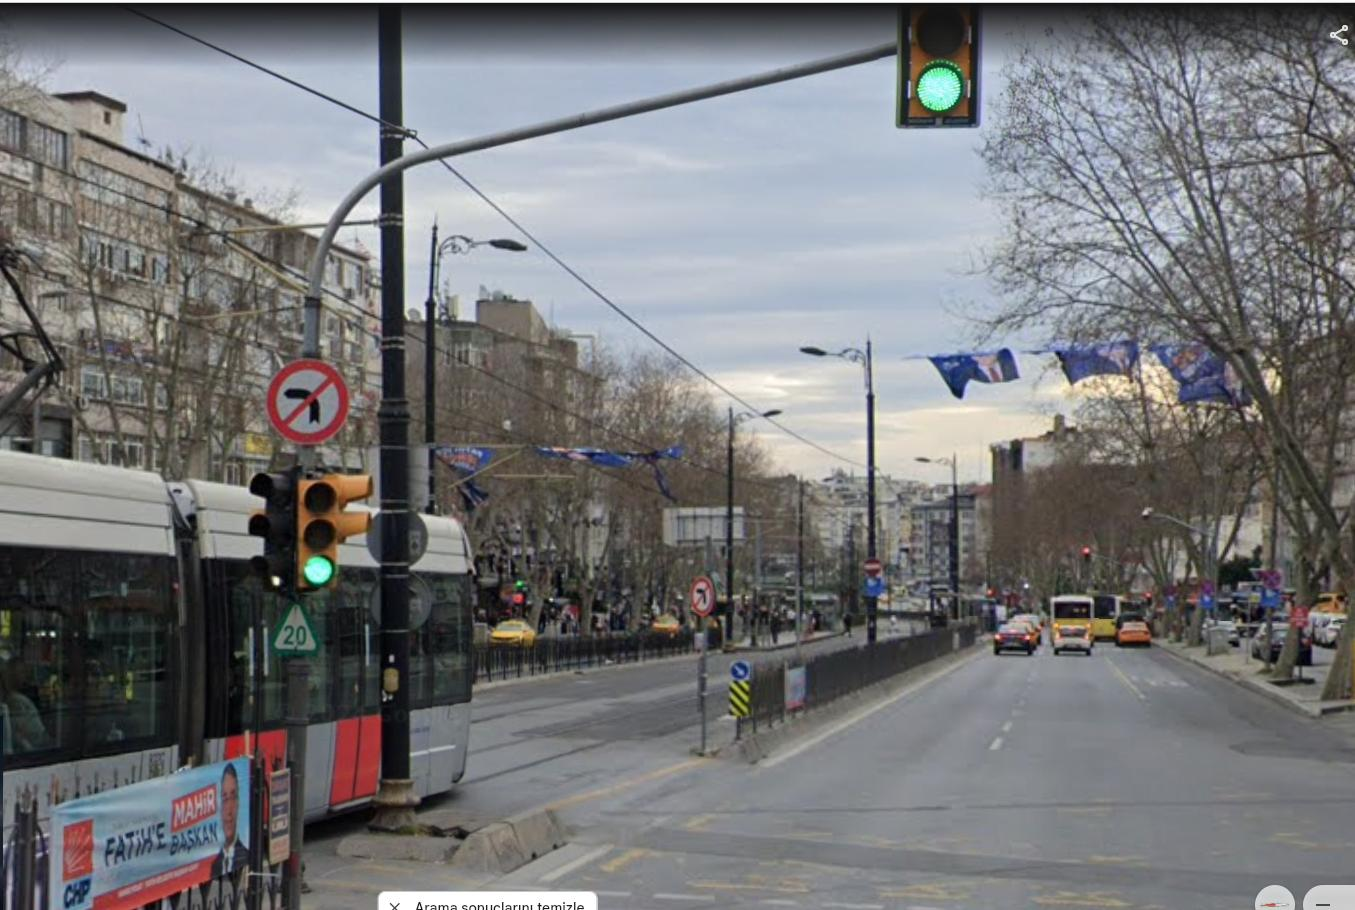greenlight: (293, 473, 344, 581)
